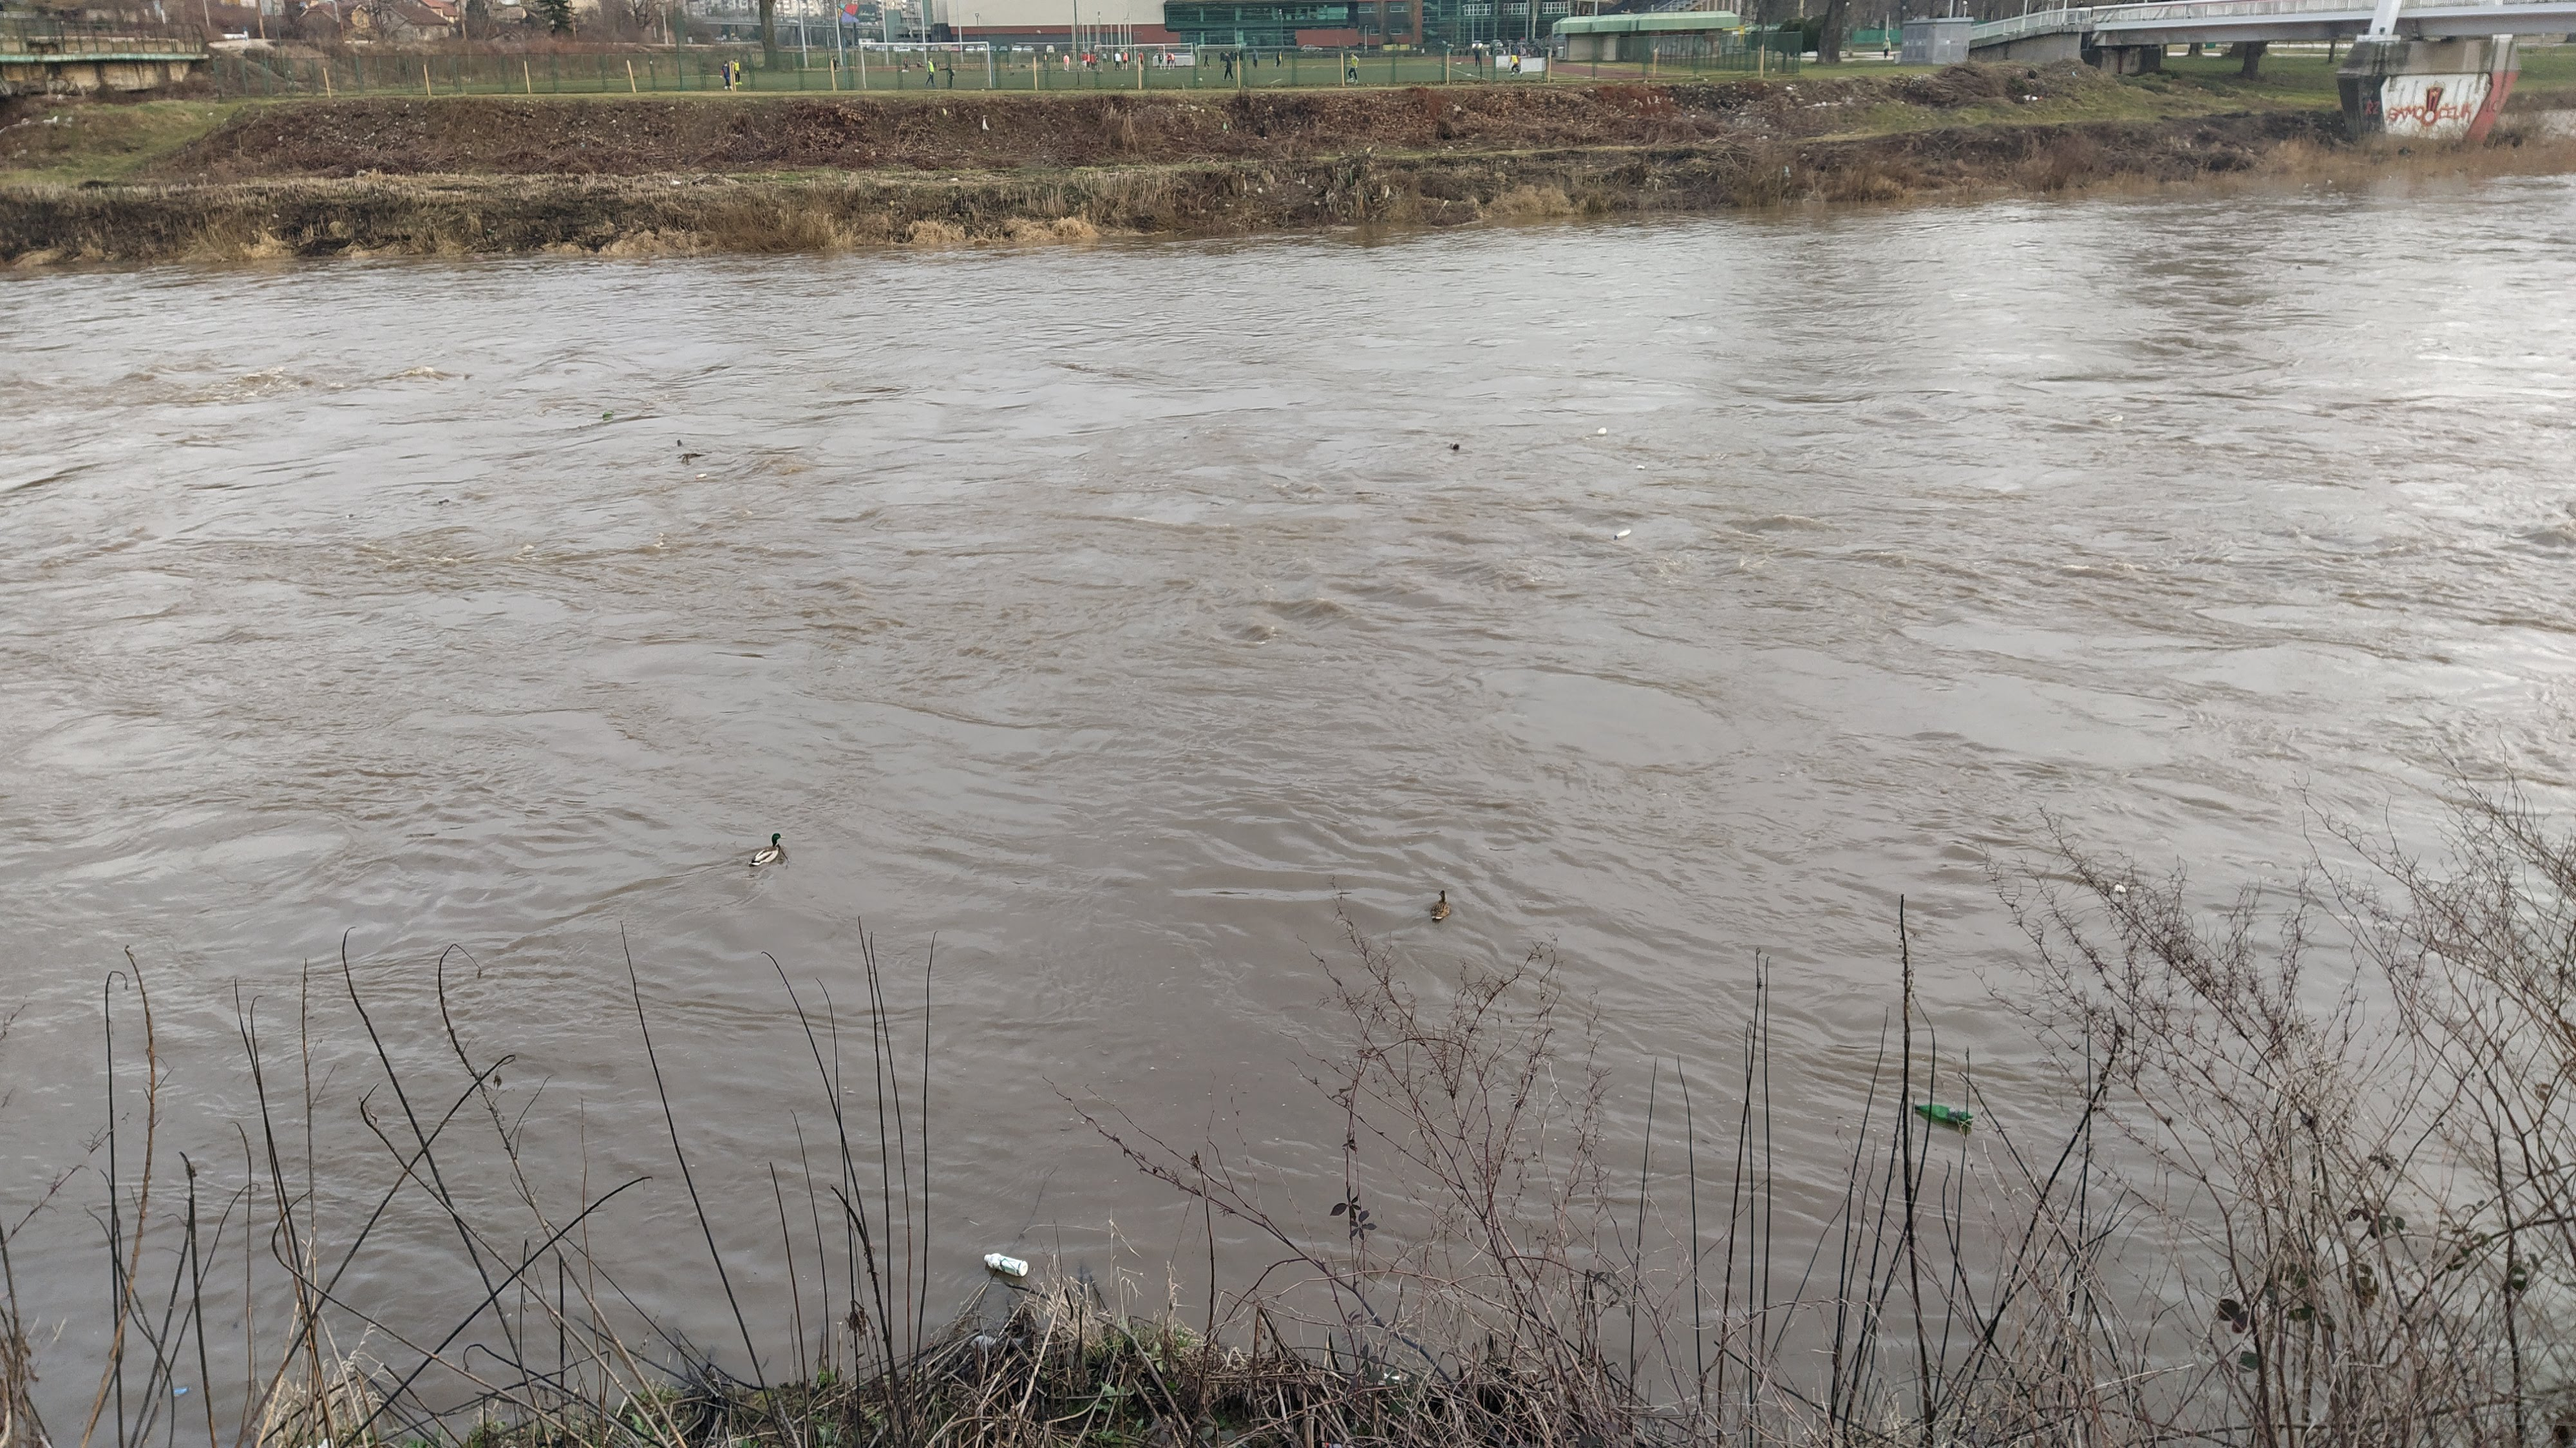Plastic Bottle: (1913, 1103, 1973, 1128), (984, 1253, 1028, 1276), (1614, 528, 1631, 540), (173, 1386, 189, 1398), (2112, 883, 2127, 894), (602, 409, 614, 418), (2111, 414, 2123, 421), (695, 473, 708, 478), (1449, 443, 1458, 450), (1598, 427, 1605, 434), (439, 499, 448, 504), (1637, 466, 1644, 469)
